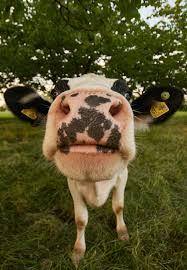cow: (3, 72, 183, 259)
